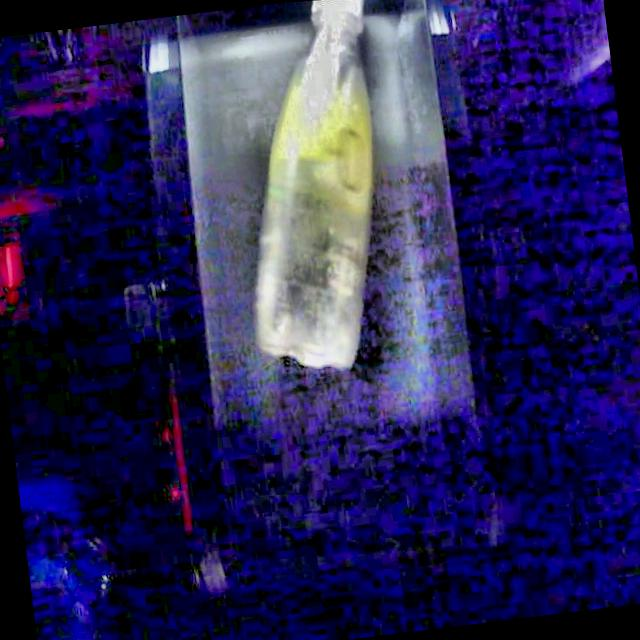plastic bottle: (255, 0, 372, 368)
